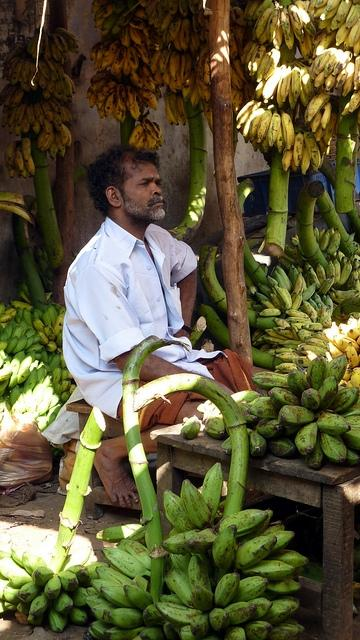banana: (180, 479, 215, 530), (218, 508, 275, 538), (100, 547, 151, 578), (164, 490, 200, 532), (234, 536, 277, 570), (201, 462, 224, 518), (226, 576, 268, 606), (154, 602, 202, 627), (170, 568, 198, 610), (212, 524, 237, 570), (242, 560, 296, 581), (169, 528, 192, 576), (161, 529, 203, 555), (120, 538, 152, 572), (263, 64, 288, 104), (188, 554, 212, 594), (261, 549, 309, 569), (214, 572, 240, 608), (100, 585, 139, 609), (190, 552, 216, 588), (324, 387, 358, 414), (236, 100, 267, 129), (263, 530, 295, 558), (96, 524, 143, 543), (251, 603, 291, 625), (123, 584, 154, 612), (320, 430, 347, 462), (222, 601, 258, 625), (222, 428, 254, 455), (294, 420, 318, 455), (316, 374, 338, 412), (276, 105, 293, 154), (78, 562, 110, 588), (113, 527, 147, 551), (324, 41, 346, 78), (251, 372, 291, 392), (107, 608, 145, 629), (268, 387, 304, 409), (306, 355, 328, 391), (188, 528, 218, 554), (278, 406, 316, 426), (248, 42, 270, 76), (190, 586, 216, 614), (95, 566, 132, 585), (342, 48, 356, 98), (296, 62, 314, 100), (266, 575, 302, 594), (317, 414, 351, 434), (90, 579, 124, 599), (305, 435, 325, 469), (29, 590, 53, 618), (47, 600, 68, 632), (308, 92, 330, 122), (90, 602, 123, 622), (280, 108, 295, 152), (103, 625, 147, 640), (288, 368, 310, 398), (265, 436, 296, 457), (248, 398, 280, 418), (239, 621, 272, 640), (133, 84, 157, 110), (22, 551, 48, 575), (17, 580, 45, 602), (315, 48, 337, 76), (323, 105, 338, 146), (256, 108, 273, 144), (327, 354, 347, 384), (333, 334, 360, 356), (316, 29, 338, 56), (255, 8, 274, 39), (246, 597, 272, 619), (190, 612, 212, 638), (52, 588, 74, 614), (267, 108, 281, 148), (256, 418, 284, 438), (86, 78, 114, 98), (6, 568, 34, 588), (0, 557, 26, 578), (268, 623, 300, 640), (36, 386, 54, 416), (248, 430, 268, 457), (90, 620, 117, 640), (324, 228, 341, 259), (204, 414, 225, 439), (180, 414, 200, 440), (332, 50, 352, 76), (264, 48, 280, 80), (249, 110, 265, 142), (270, 599, 300, 616), (336, 446, 360, 467), (334, 260, 352, 288), (256, 51, 271, 84), (209, 499, 226, 528), (102, 10, 124, 32), (142, 604, 164, 626), (209, 608, 230, 631), (32, 566, 55, 587), (335, 60, 351, 90), (66, 586, 90, 606), (110, 46, 126, 76), (303, 132, 318, 164), (244, 42, 260, 72), (27, 380, 42, 412), (340, 426, 360, 450), (44, 574, 62, 600), (288, 5, 303, 36), (294, 0, 310, 29), (2, 582, 23, 604), (242, 110, 256, 143), (236, 402, 257, 424), (280, 64, 292, 102), (275, 265, 291, 293), (166, 92, 179, 126), (330, 9, 350, 31), (5, 44, 27, 64), (301, 388, 321, 410), (133, 42, 151, 66), (10, 544, 28, 568), (274, 284, 290, 311), (65, 564, 89, 582), (57, 571, 78, 591), (310, 52, 325, 80), (160, 594, 190, 608), (252, 1, 272, 22), (290, 64, 301, 102), (336, 20, 352, 46), (182, 70, 195, 102), (318, 276, 334, 302), (232, 58, 248, 84), (202, 94, 212, 135), (128, 122, 145, 146), (231, 389, 260, 403), (140, 624, 167, 639), (10, 350, 26, 375), (293, 131, 304, 167), (56, 31, 78, 49), (346, 2, 360, 30), (158, 48, 172, 76), (345, 342, 360, 368), (6, 142, 21, 168), (280, 5, 291, 40), (266, 10, 278, 42), (4, 82, 20, 106), (296, 344, 328, 356), (144, 118, 160, 142), (130, 62, 144, 89), (331, 286, 360, 299), (181, 50, 192, 84), (302, 25, 313, 59), (168, 51, 180, 82), (160, 11, 176, 34), (168, 16, 182, 42), (84, 594, 110, 608), (349, 16, 360, 49), (7, 57, 22, 81), (197, 54, 207, 90), (289, 238, 307, 258), (320, 2, 340, 20), (40, 128, 55, 152), (336, 1, 352, 23), (12, 59, 25, 86), (104, 90, 117, 117), (300, 140, 310, 175), (150, 49, 164, 74), (320, 102, 332, 131), (116, 8, 134, 27), (45, 94, 62, 114), (284, 16, 294, 50), (89, 40, 106, 60), (291, 272, 304, 298), (304, 338, 330, 351), (348, 86, 360, 114), (246, 1, 262, 22), (258, 524, 286, 536), (10, 86, 24, 110), (16, 99, 28, 126), (322, 328, 340, 346), (97, 41, 114, 60), (337, 404, 360, 418), (303, 300, 317, 323), (36, 127, 50, 150), (53, 310, 65, 336), (286, 310, 312, 322), (310, 108, 322, 134), (49, 38, 62, 62), (176, 95, 186, 126), (261, 122, 271, 153), (308, 268, 322, 290), (154, 2, 165, 30), (276, 352, 304, 363), (274, 270, 288, 292), (16, 598, 34, 615), (318, 14, 336, 31), (1, 352, 10, 386), (68, 606, 87, 622), (11, 335, 27, 354), (47, 352, 62, 372), (46, 304, 58, 329), (142, 64, 157, 84), (223, 627, 246, 640), (18, 352, 32, 373), (164, 96, 174, 125), (10, 300, 34, 312), (127, 46, 139, 70), (128, 26, 144, 44), (33, 102, 45, 126), (231, 66, 243, 90), (272, 326, 294, 339), (282, 146, 293, 172), (302, 282, 316, 302), (288, 290, 302, 310), (275, 362, 303, 372), (325, 72, 339, 92), (16, 365, 30, 385), (299, 34, 310, 59), (38, 58, 51, 79), (202, 52, 210, 86), (328, 342, 344, 359), (190, 80, 199, 110), (42, 324, 57, 342), (120, 23, 130, 50), (97, 88, 116, 102), (142, 73, 156, 92), (353, 53, 360, 91), (125, 86, 136, 110), (318, 230, 330, 252), (14, 143, 23, 172), (313, 68, 326, 88), (116, 84, 126, 110), (278, 340, 304, 350), (244, 396, 270, 406), (116, 98, 126, 124), (162, 62, 172, 88), (56, 34, 69, 54), (258, 282, 274, 298), (288, 78, 296, 110), (0, 308, 17, 323), (312, 28, 326, 46), (179, 625, 197, 639), (4, 336, 18, 354), (24, 344, 45, 356), (268, 292, 282, 310), (9, 385, 20, 407), (24, 154, 35, 176), (17, 390, 28, 412), (30, 60, 41, 82), (135, 130, 146, 152), (47, 138, 58, 160), (100, 53, 116, 68), (179, 28, 189, 52), (90, 72, 110, 84), (38, 66, 48, 90), (112, 0, 127, 16), (346, 268, 358, 288), (28, 34, 40, 54), (262, 336, 286, 346), (21, 60, 31, 84), (152, 122, 162, 146), (0, 322, 13, 340), (33, 318, 46, 336), (128, 17, 146, 30), (145, 0, 158, 18), (61, 105, 72, 126), (62, 75, 72, 98), (318, 305, 330, 324), (103, 81, 118, 96), (332, 258, 340, 286), (285, 316, 313, 324), (28, 612, 44, 626), (145, 130, 156, 150), (258, 24, 268, 46), (52, 365, 62, 387), (42, 310, 54, 328), (317, 262, 326, 286), (10, 322, 22, 340), (257, 308, 281, 317), (182, 17, 190, 44), (22, 138, 31, 162), (273, 26, 282, 50), (22, 308, 34, 326), (100, 3, 114, 18), (54, 61, 65, 80), (234, 89, 243, 112), (256, 79, 266, 99), (66, 74, 76, 94), (130, 101, 140, 121), (35, 384, 44, 406), (59, 124, 68, 146), (26, 104, 35, 126), (2, 109, 13, 127), (347, 327, 360, 342), (325, 294, 333, 318), (327, 260, 335, 284), (230, 36, 238, 60), (60, 378, 72, 394), (326, 0, 342, 12), (344, 416, 360, 428), (202, 630, 221, 640), (7, 373, 18, 390), (198, 4, 206, 27), (64, 124, 72, 147), (36, 331, 49, 345), (350, 370, 360, 388), (122, 56, 131, 76), (317, 138, 326, 158), (201, 86, 211, 104), (42, 116, 52, 134), (50, 299, 61, 315), (22, 112, 30, 134), (327, 226, 335, 248), (301, 322, 323, 330), (277, 79, 283, 108), (351, 279, 360, 298), (40, 34, 48, 55), (154, 66, 162, 87), (22, 336, 34, 350), (55, 74, 63, 95), (44, 412, 56, 426), (11, 400, 22, 415), (32, 116, 41, 134), (52, 111, 62, 127), (274, 318, 290, 328), (350, 258, 360, 274), (10, 86, 20, 102), (169, 0, 179, 16), (36, 365, 44, 384), (112, 102, 120, 121), (59, 105, 67, 124), (170, 78, 182, 90), (40, 348, 48, 366), (292, 268, 298, 292), (340, 256, 348, 274), (2, 62, 10, 80), (58, 352, 66, 370), (31, 308, 42, 321), (108, 41, 121, 52), (307, 0, 317, 14), (148, 11, 158, 25), (4, 600, 18, 610), (60, 391, 70, 405), (183, 101, 189, 124), (325, 20, 334, 35), (32, 44, 41, 59), (347, 318, 359, 329), (342, 369, 352, 382), (290, 156, 298, 172), (260, 300, 276, 308), (89, 92, 97, 108), (54, 381, 63, 395), (314, 1, 328, 10), (305, 260, 314, 274), (336, 250, 345, 264), (252, 138, 261, 152), (7, 164, 16, 178), (94, 17, 105, 28), (97, 104, 105, 119), (20, 318, 26, 338), (344, 31, 350, 51), (46, 340, 56, 352), (135, 9, 147, 19), (330, 322, 340, 334), (260, 342, 273, 351), (87, 587, 100, 596), (61, 366, 68, 382), (0, 378, 8, 392), (274, 348, 296, 353), (312, 226, 318, 244), (136, 90, 142, 108), (0, 550, 12, 559), (53, 88, 62, 100), (68, 384, 77, 396), (46, 78, 55, 90), (50, 69, 58, 82), (0, 366, 13, 374), (251, 304, 264, 312), (56, 329, 62, 346), (68, 44, 78, 54), (24, 328, 34, 338), (305, 274, 312, 288), (0, 330, 8, 342), (15, 120, 21, 136), (57, 146, 65, 157), (0, 339, 8, 350), (57, 446, 65, 456), (314, 292, 322, 302), (311, 35, 316, 51), (14, 314, 22, 324), (189, 1, 195, 14), (92, 0, 103, 7), (61, 50, 68, 61), (67, 370, 74, 380), (50, 444, 57, 454), (59, 306, 66, 315), (4, 153, 8, 168), (204, 29, 208, 43), (35, 353, 43, 360), (26, 170, 32, 178), (294, 233, 298, 241), (346, 381, 352, 386), (357, 336, 360, 346)
